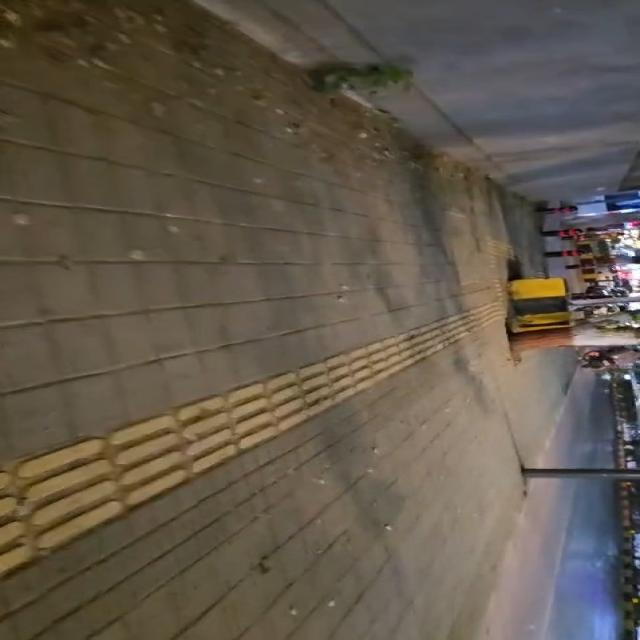obstacle: (539, 202, 586, 266), (523, 469, 639, 481)
